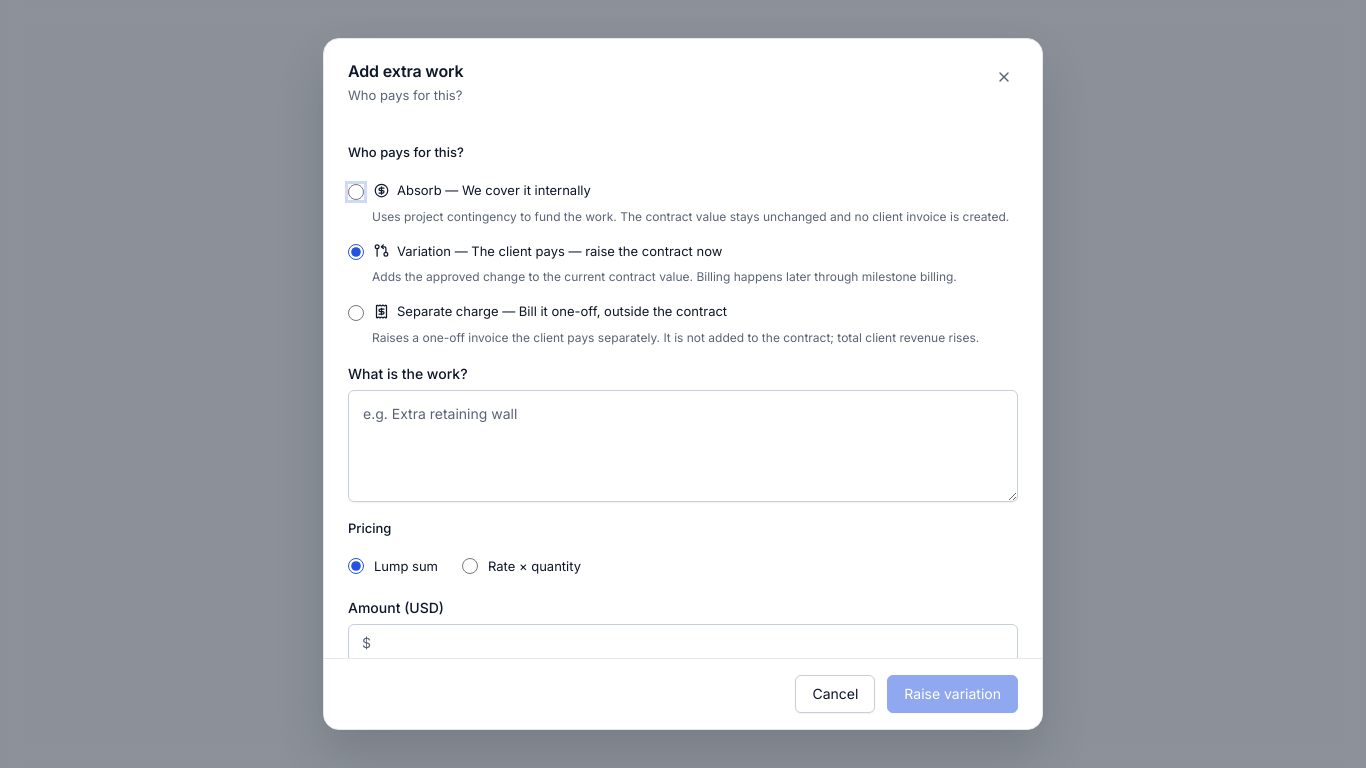
Scenario: AddExtraWorkDialog › keeps CTA disabled until description, amount, AND a section are all provided (VARIATION)
The image size is (1366, 768).
Expected: the button "Raise variation" is disabled, x1=887 y1=675 x2=1018 y2=713
In the text box labelled "What is the work?": (683, 446) x1=348 y1=390 x2=1018 y2=502, type "Retaining wall"
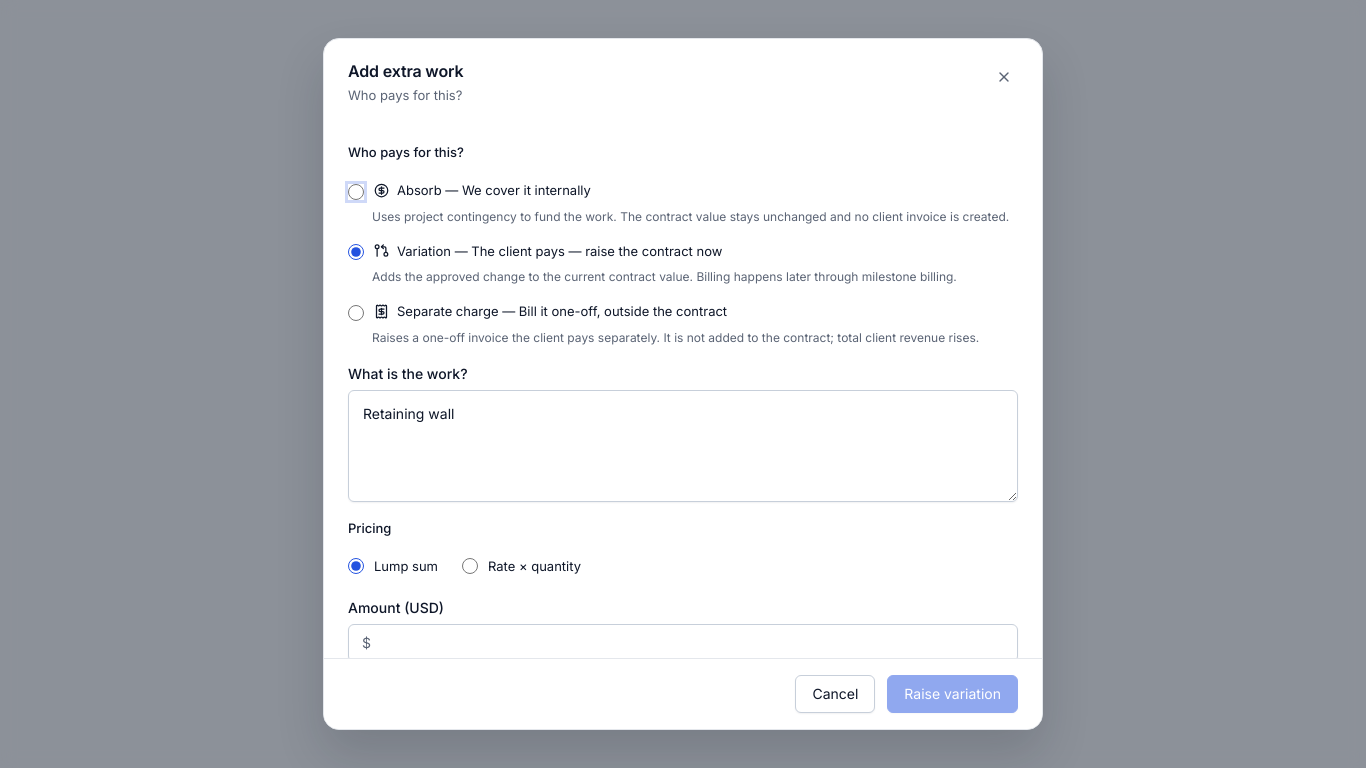
Expected: the button "Raise variation" is disabled, x1=887 y1=675 x2=1018 y2=713
In the field labelled "Amount (USD)": (683, 643) x1=348 y1=624 x2=1018 y2=662, type "1000"
(page scrolled)
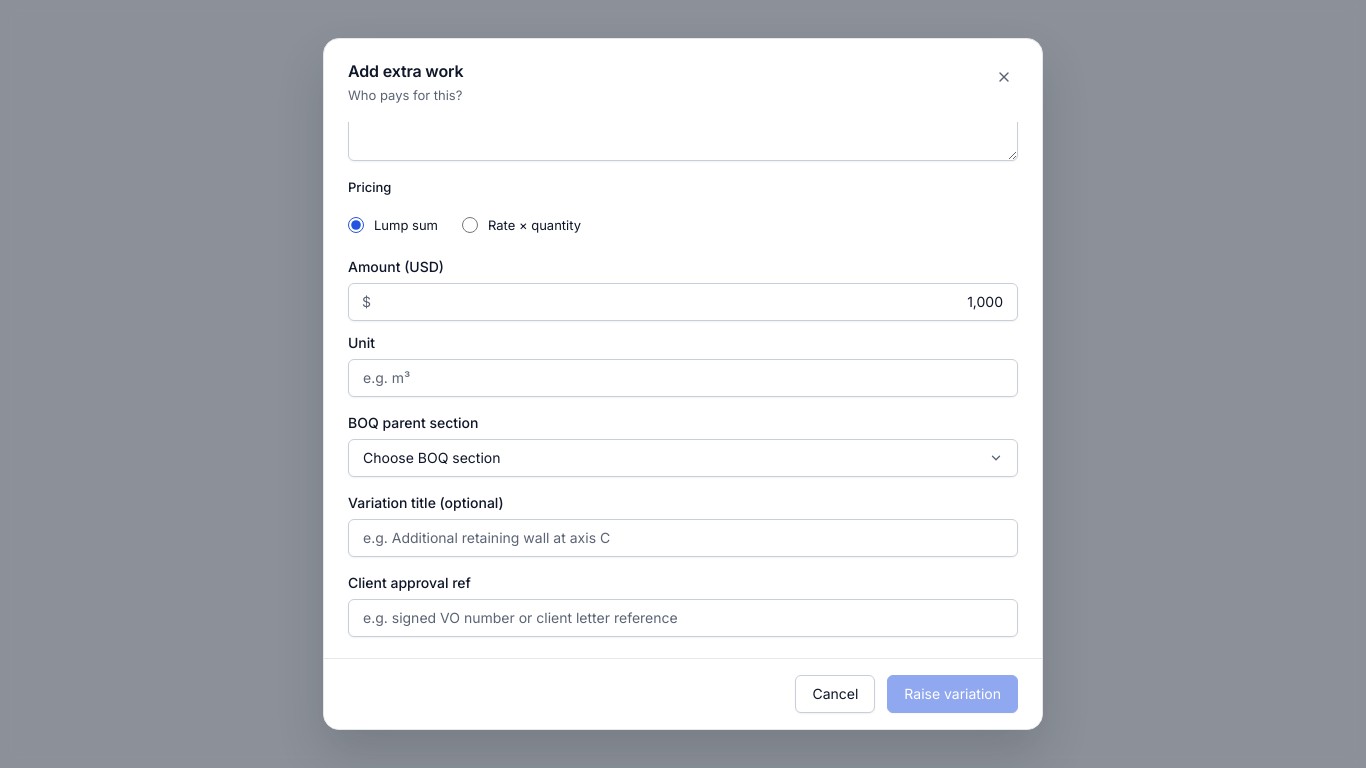
Expected: the button "Raise variation" is disabled, x1=887 y1=675 x2=1018 y2=713
Click the dropdown named "BOQ parent section": (432, 458) x1=348 y1=439 x2=1018 y2=477
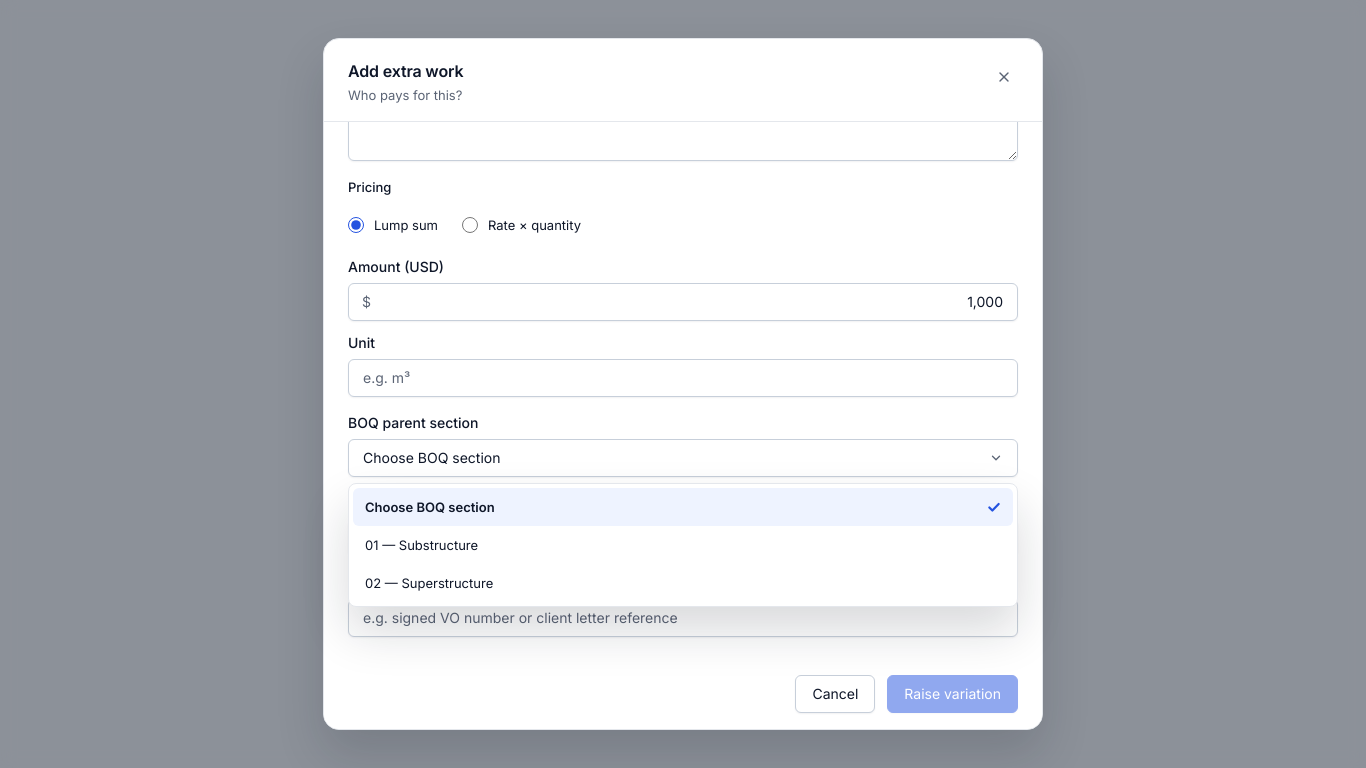
Click the option "01 — Substructure": (422, 545) x1=365 y1=537 x2=478 y2=553
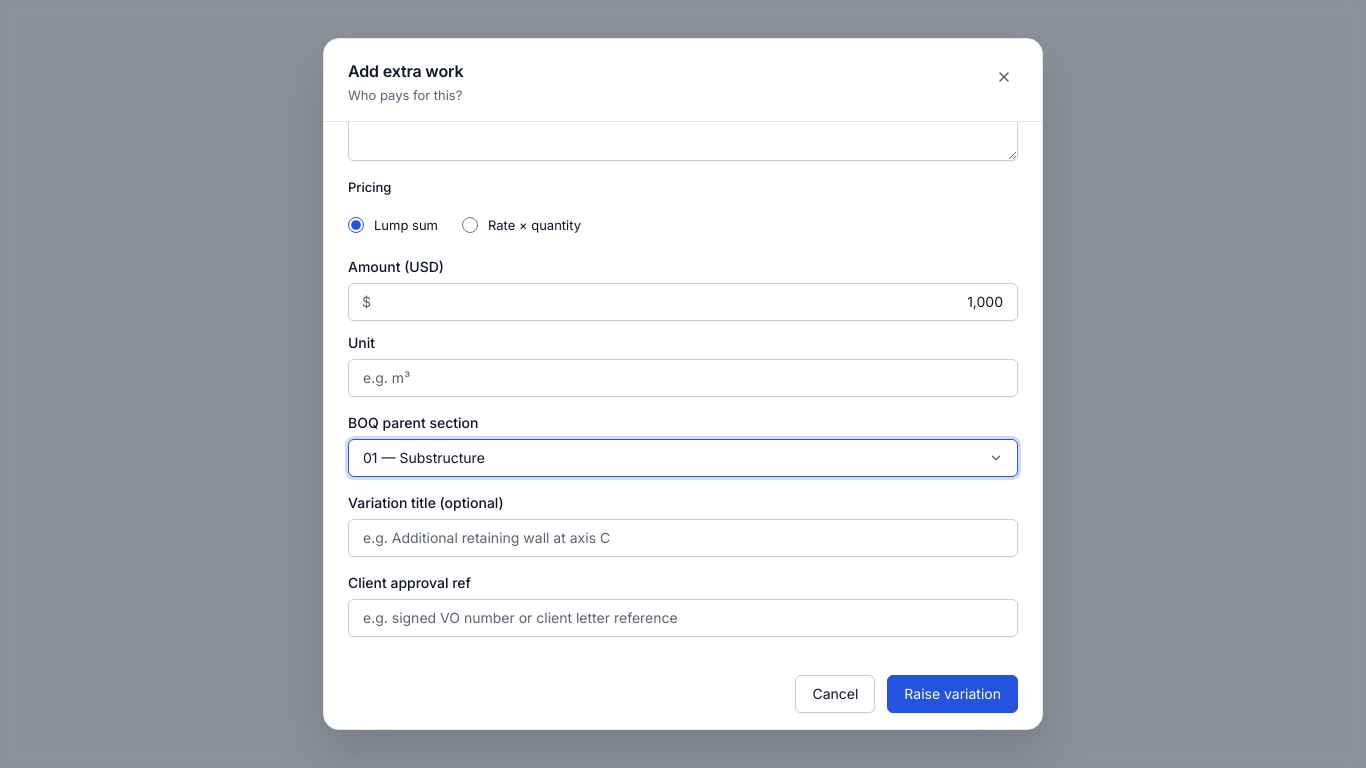
Now the button "Raise variation" is enabled, box x1=887 y1=675 x2=1018 y2=713
